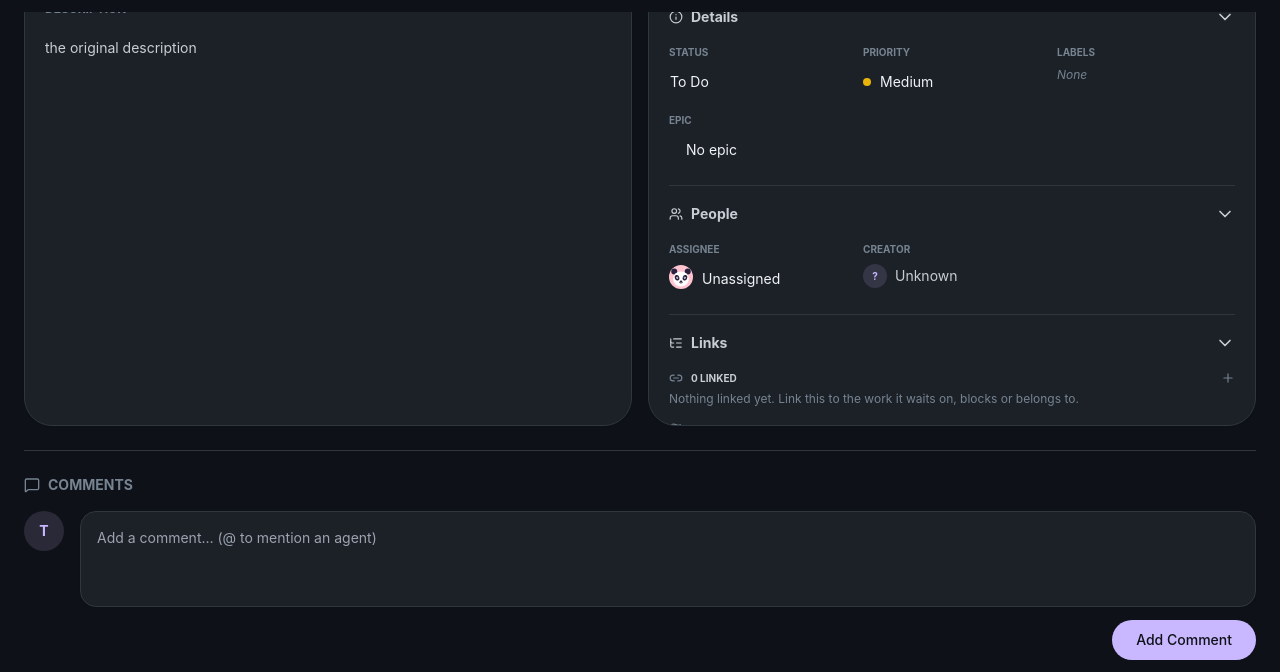
TaskPage — drafts survive a tab switch › keeps a half-written comment
(page scrolled)
Type "half-written" into the text box with placeholder "Add a comment… (@ to mention an agent)".
click(668, 559); type("half-written")  # box [80, 511, 1256, 607]
(page scrolled)
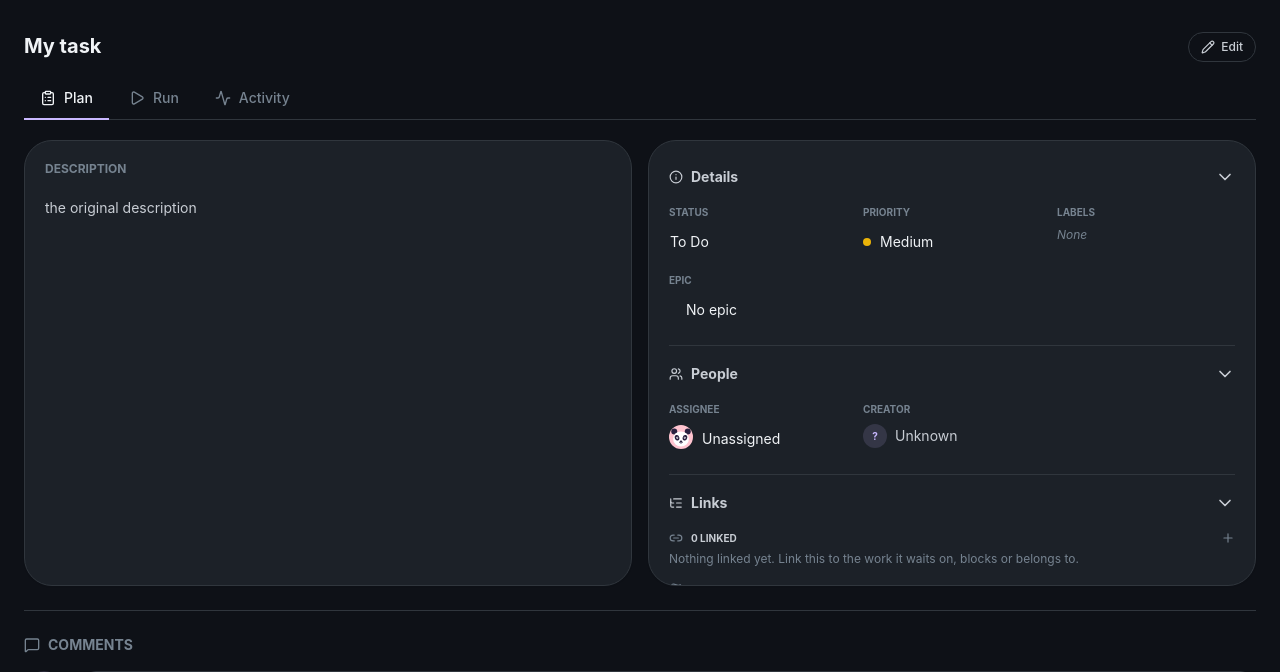
Click the button "Run".
click(154, 99)  # box [113, 78, 195, 120]
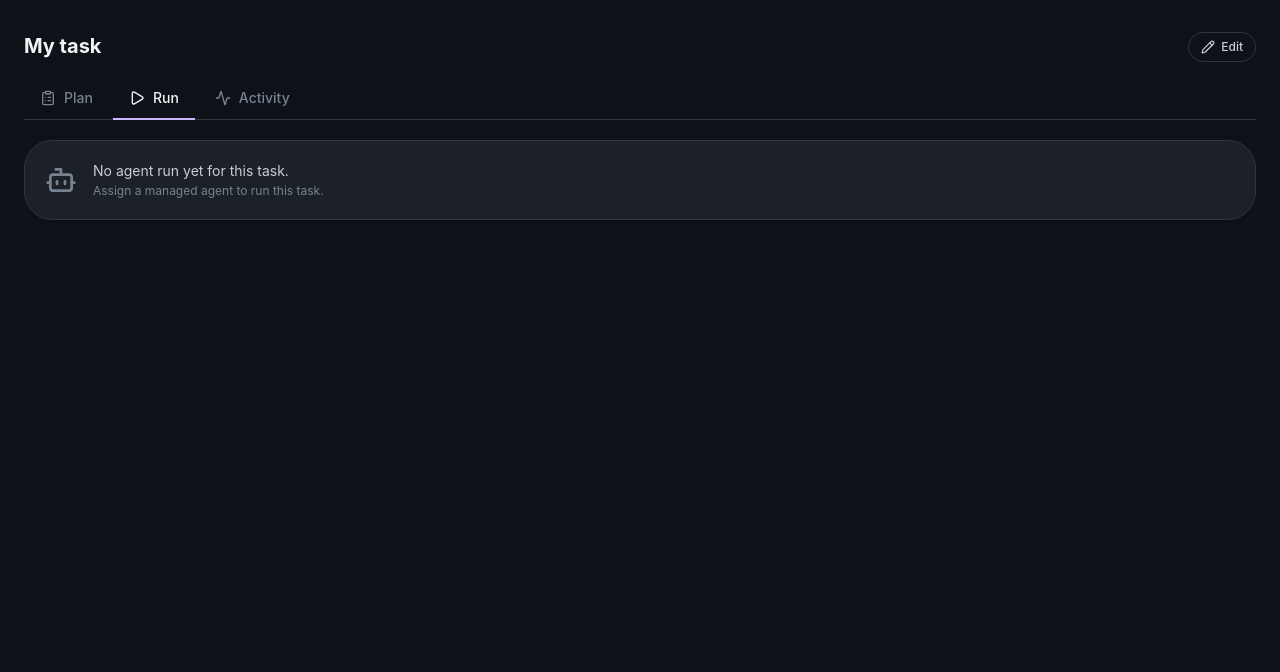
expect the field with placeholder "Add a comment" is not shown: met
Click the button "Plan".
click(66, 99)  # box [24, 78, 109, 120]
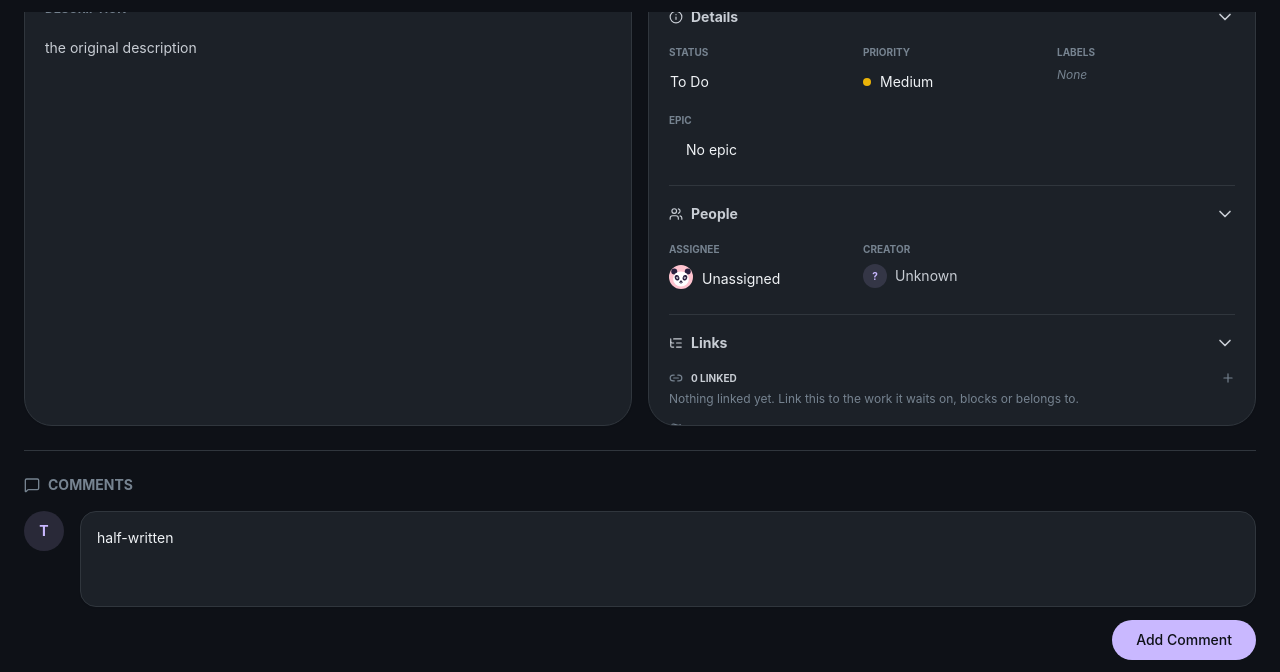
expect the text box with placeholder "Add a comment… (@ to mention an agent)" holds "half-written": met, box [80, 511, 1256, 607]
